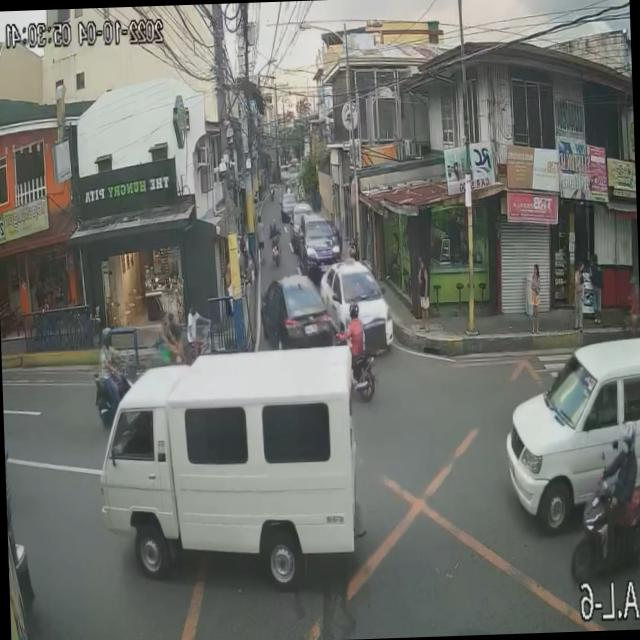full: (621, 421, 638, 456), (348, 301, 360, 322)
half: (101, 324, 112, 346)
